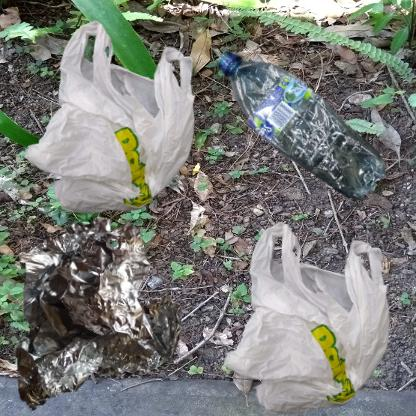aluminio: (10, 213, 185, 412)
bolsa: (10, 10, 246, 272), (213, 213, 416, 416)
botella: (213, 10, 416, 287)
